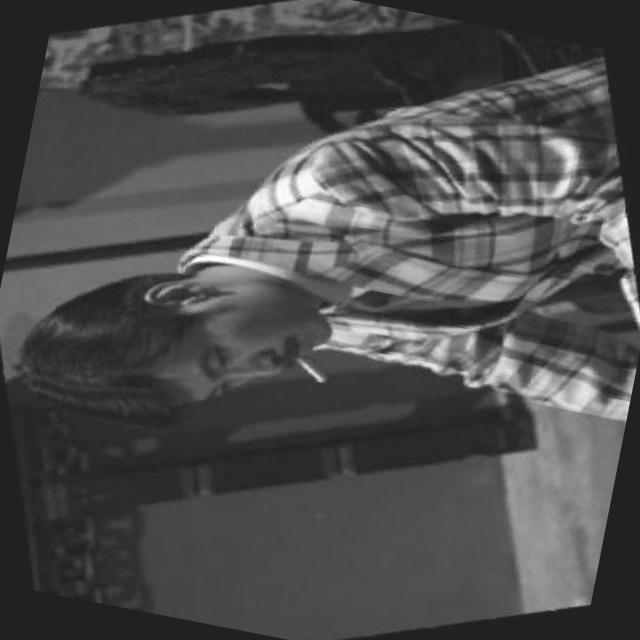cigarette: (290, 345, 337, 394)
